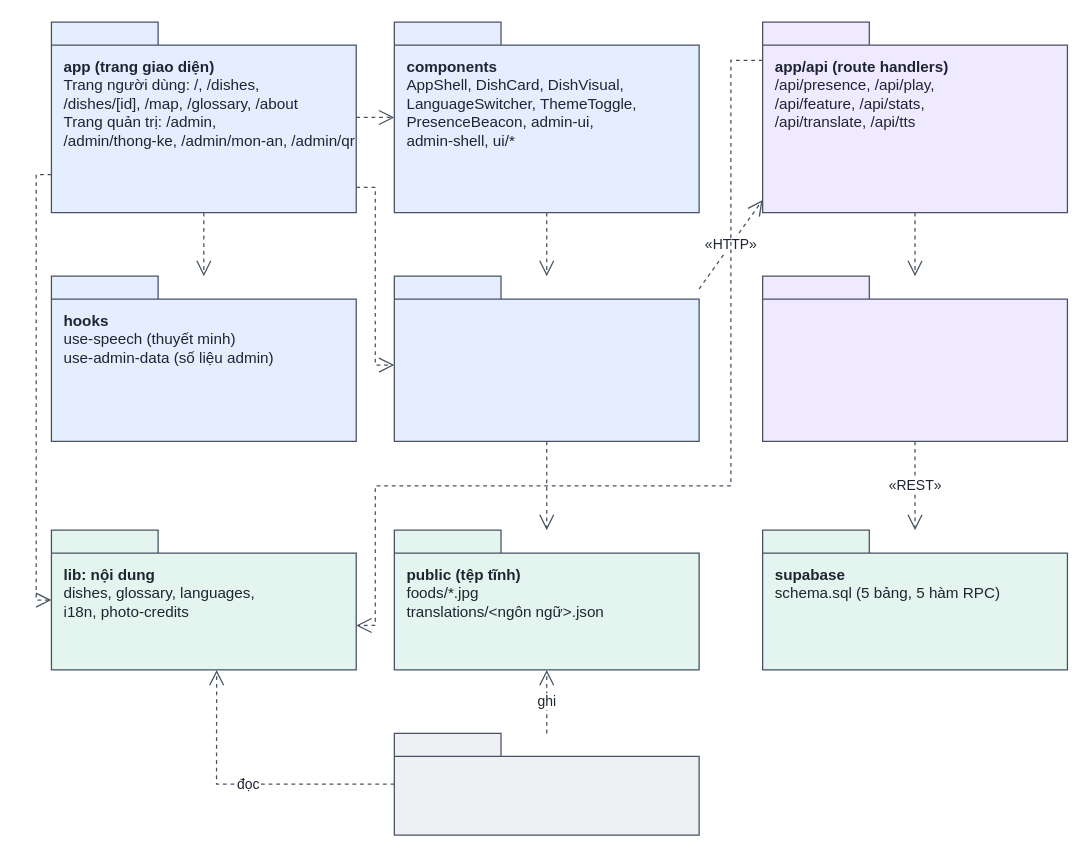
Image size: 1090x857. Some labels were removed from this diagram. The shapes that lost their labels are listed below. From the top down, each one's centre as x and y in pixels, then its label:
At (x=546, y=358): "lib: trạng thái và dịch store, translate-client, use-dish-text, track, listening".
At (x=914, y=358): "lib: máy chủ visits-db, presence-db, supabase, admin-auth".
At (x=546, y=783): "scripts pretranslate.mjs, gen-shop-qr.mjs".
